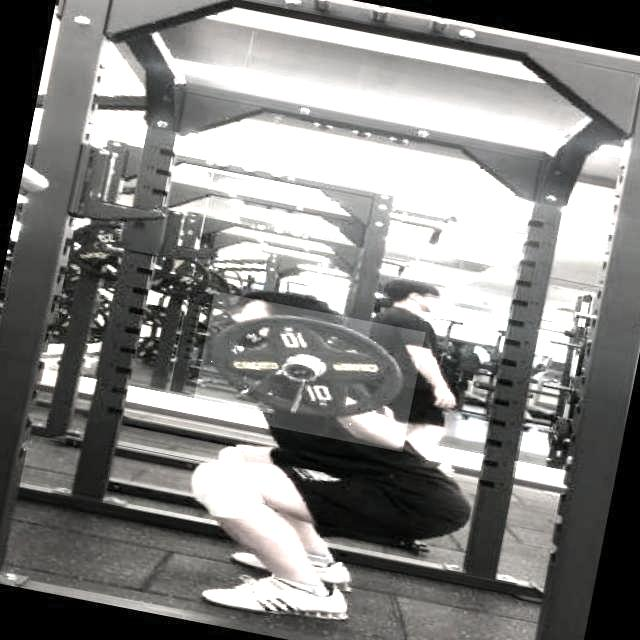barbell: (192, 292, 427, 452)
